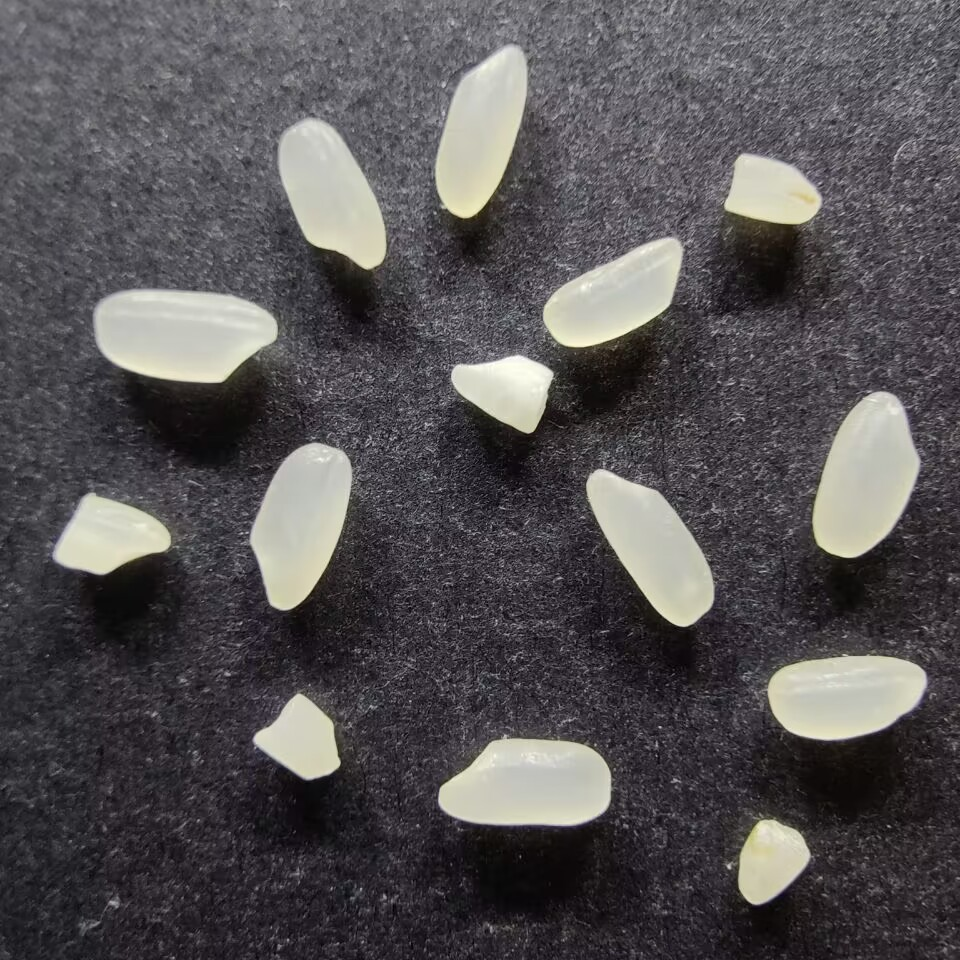broken: (51, 490, 171, 579), (448, 352, 556, 435), (252, 689, 343, 782), (723, 149, 826, 226), (734, 816, 816, 908)
rice: (582, 467, 717, 627), (809, 387, 922, 559), (246, 440, 354, 612), (93, 287, 280, 386), (277, 116, 388, 270), (432, 43, 528, 219), (435, 736, 613, 828), (540, 237, 684, 349), (765, 654, 928, 742)
